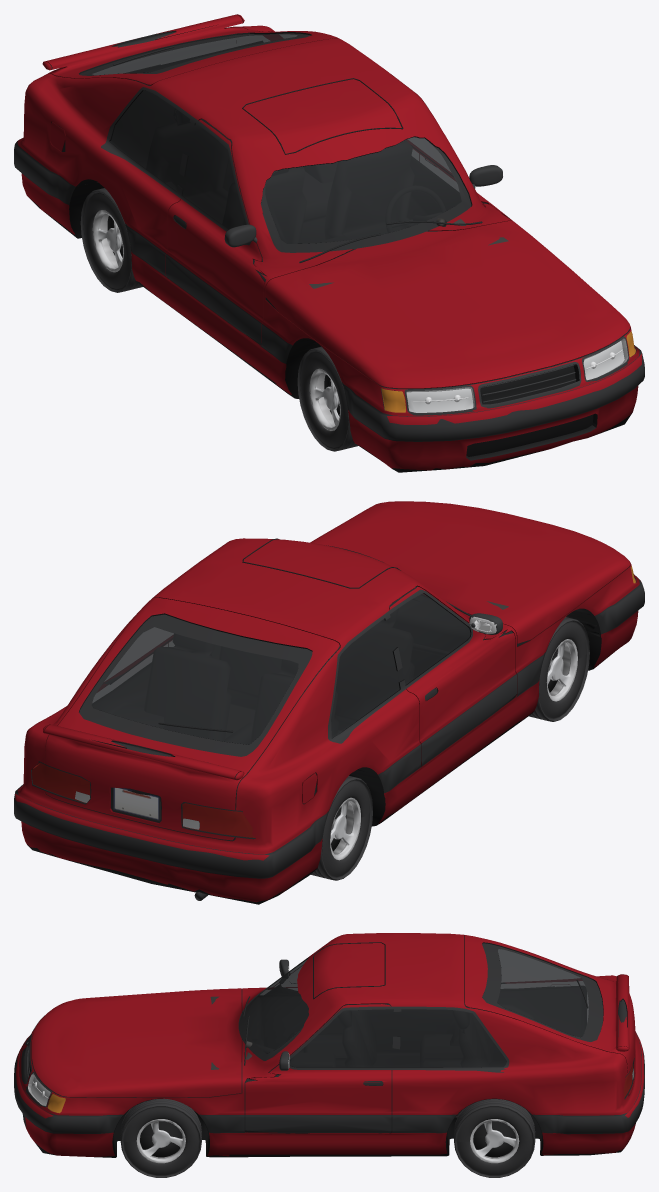
File: car_saab900.glb
The picture shows the model from 3 angles, top to bottom: view 1: azimuth 30°, elevation 25°; view 2: azimuth 150°, elevation 25°; view 3: azimuth 270°, elevation 25°; orthographic projection. The views are drawn at different scales.
Visible parts, largest first — view 1: body, wheel_FR, wheel_RR; view 2: body, wheel_RR, wheel_FR; view 3: body, wheel_FL, wheel_RL.
Boxes of the visible parts, x1=… form: body: x1=14, y1=14, x2=644, y2=472; wheel_FR: x1=297, y1=346, x2=358, y2=451; wheel_RR: x1=80, y1=188, x2=142, y2=292; body: x1=14, y1=501, x2=644, y2=904; wheel_RR: x1=310, y1=776, x2=372, y2=880; wheel_FR: x1=529, y1=617, x2=589, y2=721; body: x1=14, y1=933, x2=644, y2=1157; wheel_FL: x1=120, y1=1098, x2=201, y2=1177; wheel_RL: x1=454, y1=1099, x2=535, y2=1177.
Size of the model in its own units: 1.84 by 1.42 by 4.76.
12 materials, 1 textured.
